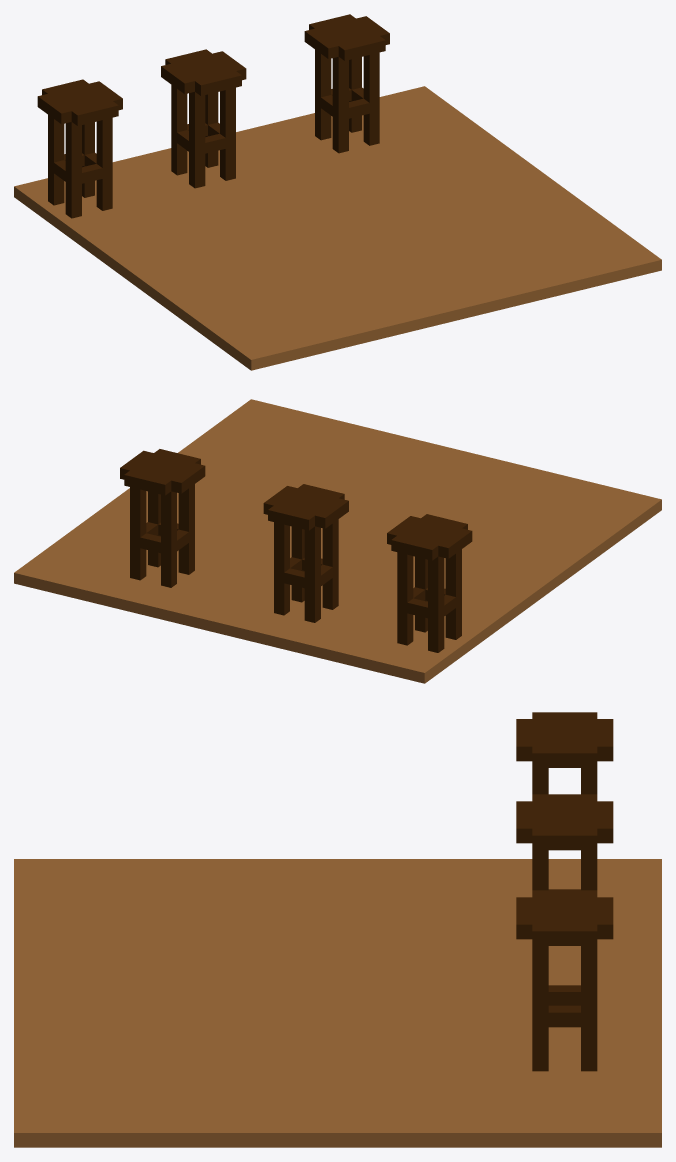
The model's file is saloon-3.obj.
The picture shows the model from 3 angles, top to bottom: view 1: azimuth 30°, elevation 25°; view 2: azimuth 150°, elevation 25°; view 3: azimuth 270°, elevation 25°; orthographic projection. The views are drawn at different scales.
Bounding box in the file's own units: 4 × 1.1 × 4.
Materials: 1 (1 with a texture image).
